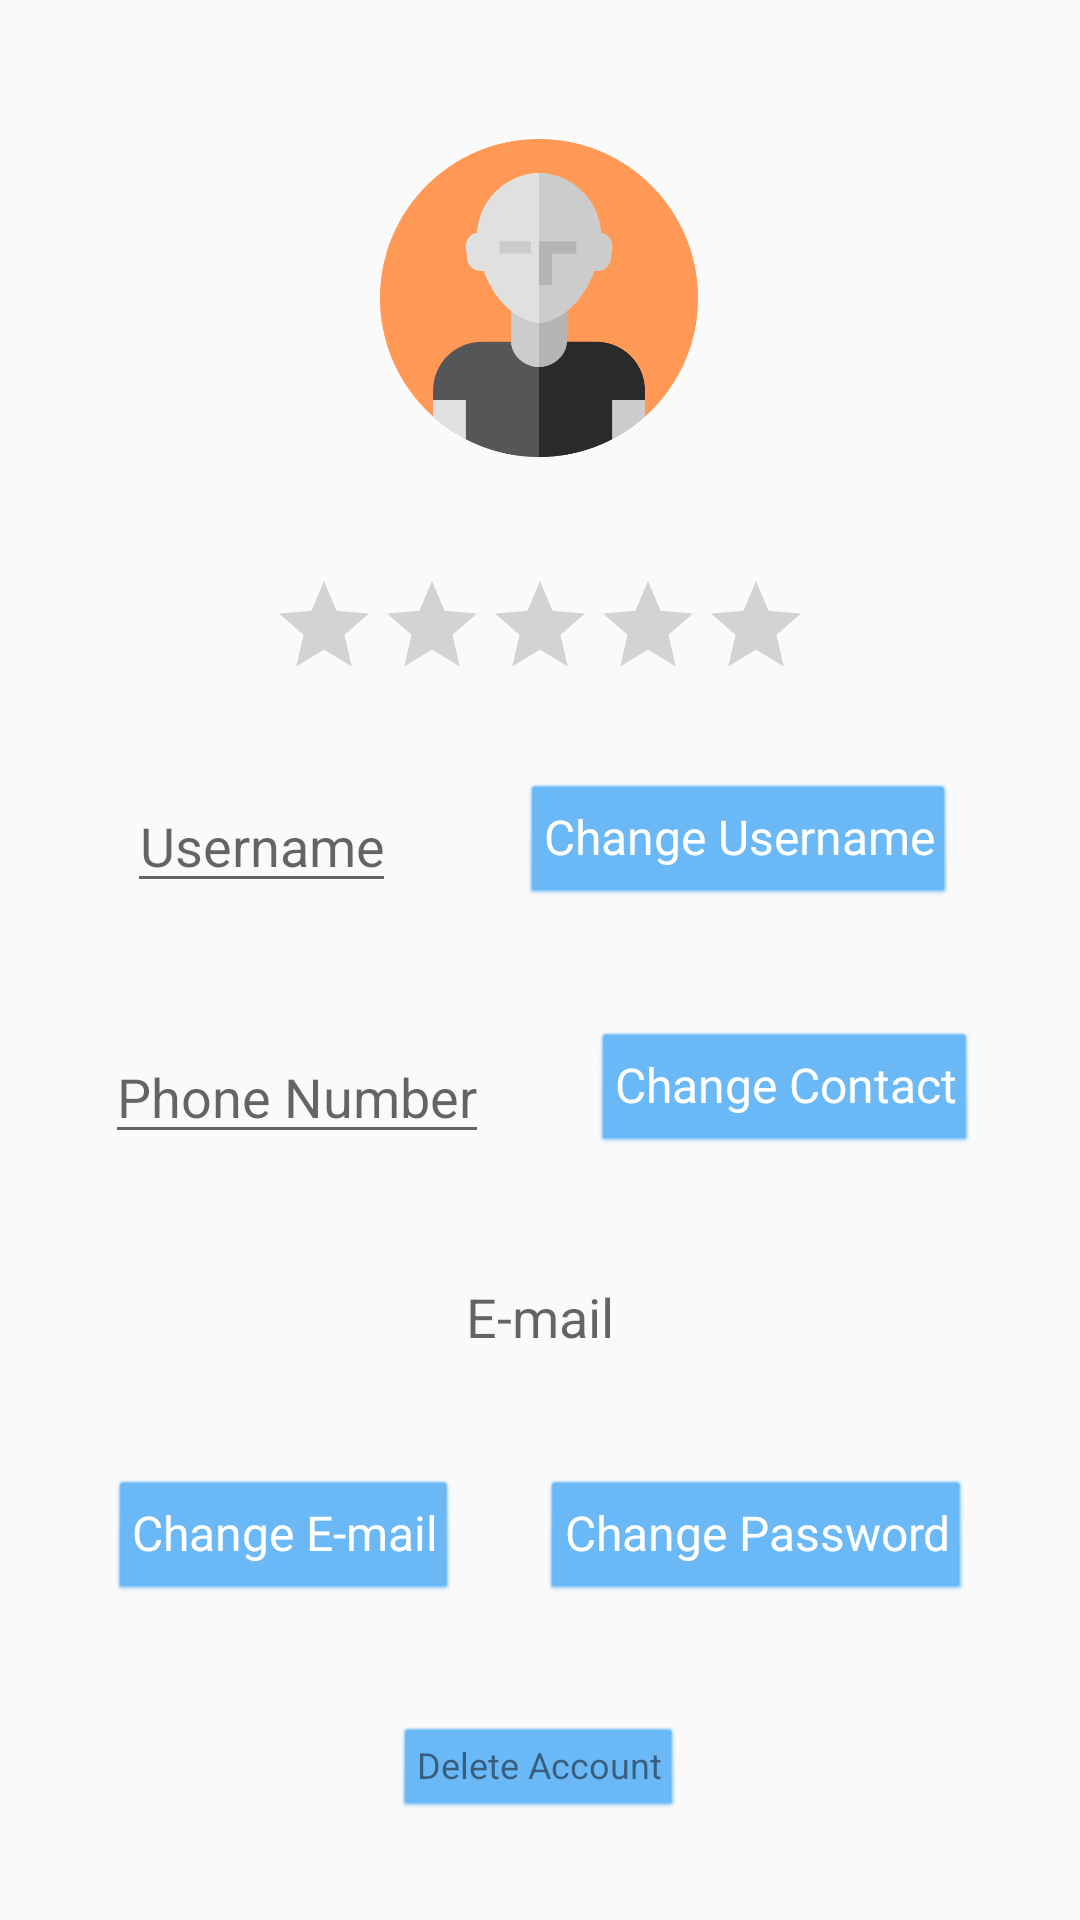

Icons on this 1080x1920 Android screen, each with the point to tap as point (x, y):
profile: point (539, 298)
